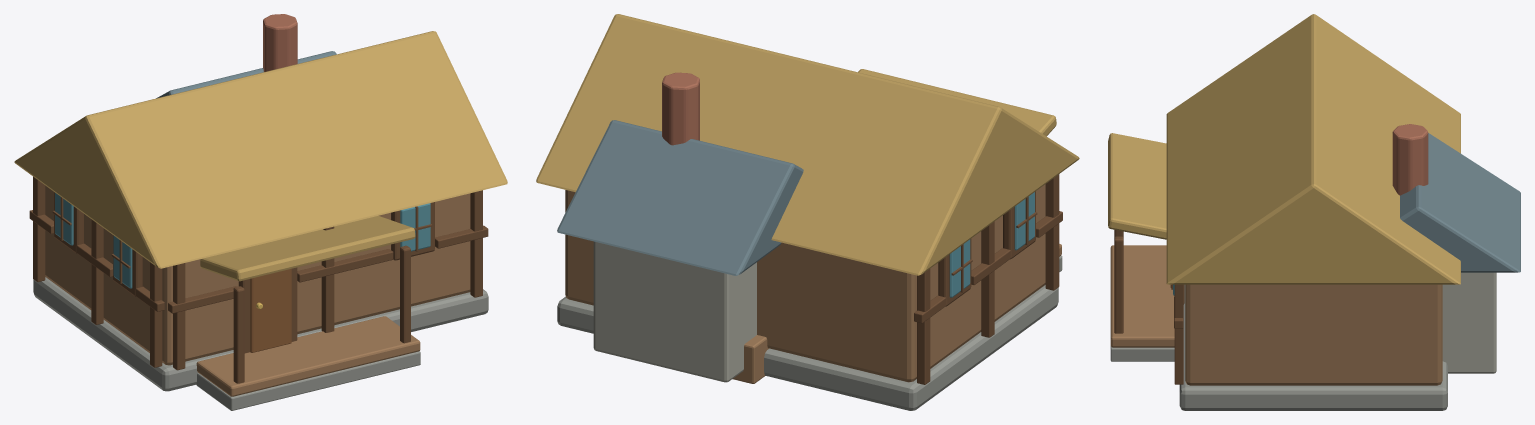
File: temperate-farmstead-3.glb
3 views of the same model, side by side, from view 1: azimuth 30°, elevation 25°; view 2: azimuth 150°, elevation 25°; view 3: azimuth 270°, elevation 25° (orthographic). The views are drawn at different scales.
Visible parts, largest first — view 1: Golden thatch, Aged oak, Dark beams, Foundation stone, Door oak, Blue glass, Chimney brick, Blue slate; view 2: Golden thatch, Aged oak, Blue slate, Fieldstone, Foundation stone, Dark beams, Chimney brick, Blue glass; view 3: Golden thatch, Aged oak, Blue slate, Foundation stone, Fieldstone, Chimney brick, Dark beams.
Part boxes in pixels (<box>): Golden thatch: <box>14,31,507,281</box>; Aged oak: <box>45,185,470,396</box>; Dark beams: <box>29,176,488,383</box>; Foundation stone: <box>33,277,488,410</box>; Door oak: <box>250,269,291,352</box>; Blue glass: <box>55,193,430,288</box>; Chimney brick: <box>263,14,297,71</box>; Blue slate: <box>156,51,336,98</box>; Golden thatch: <box>536,14,1079,275</box>; Aged oak: <box>565,184,1061,383</box>; Blue slate: <box>557,120,803,275</box>; Fieldstone: <box>593,241,756,382</box>; Foundation stone: <box>557,255,1062,410</box>; Dark beams: <box>914,174,1062,384</box>; Chimney brick: <box>662,72,699,145</box>; Blue glass: <box>949,192,1034,297</box>; Golden thatch: <box>1108,14,1460,284</box>; Aged oak: <box>1110,245,1442,385</box>; Blue slate: <box>1400,133,1520,272</box>; Foundation stone: <box>1110,285,1447,410</box>; Fieldstone: <box>1442,272,1496,373</box>; Chimney brick: <box>1392,124,1428,195</box>; Dark beams: <box>1114,230,1184,384</box>.
Bounding box in the file's own units: 4.44 × 2.83 × 4.49.
